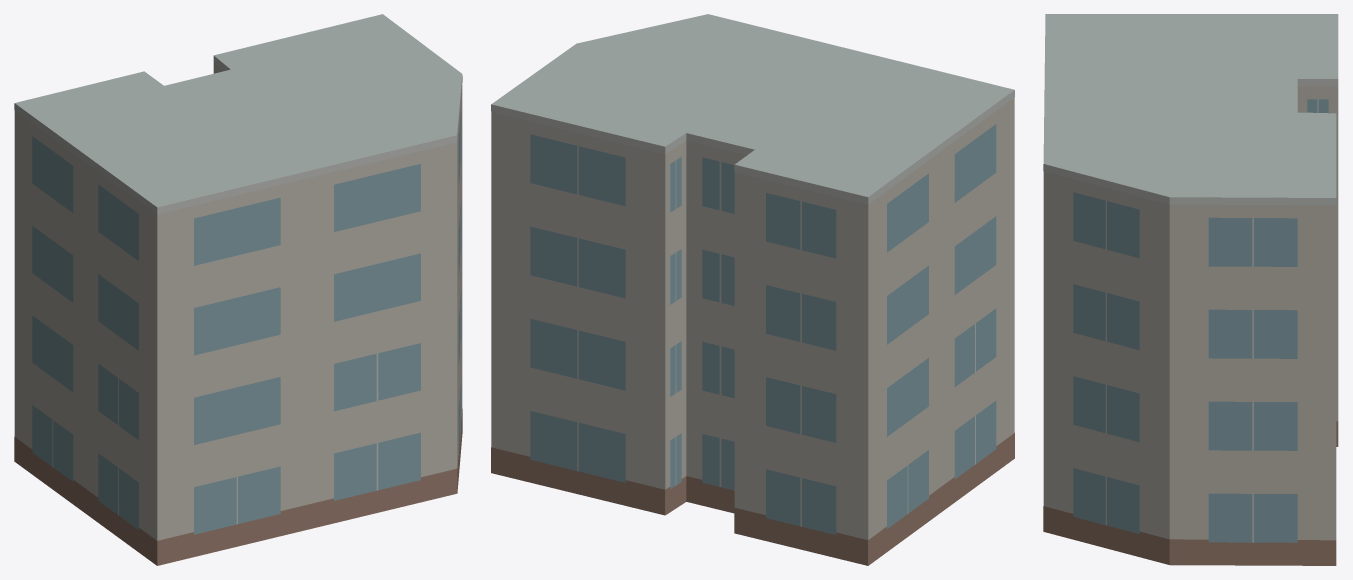
Rendered from survey-upis-32782993.glb.
The picture shows the model from 3 angles, left to right: view 1: azimuth 30°, elevation 25°; view 2: azimuth 150°, elevation 25°; view 3: azimuth 270°, elevation 25°; orthographic projection. The views are drawn at different scales.
Visible parts, largest first — view 1: survey-upis-32782993.tmp; view 2: survey-upis-32782993.tmp; view 3: survey-upis-32782993.tmp.
Part boxes in pixels (box(x1,y1,x2,y2)): survey-upis-32782993.tmp: box(14, 14, 462, 565); survey-upis-32782993.tmp: box(491, 14, 1014, 565); survey-upis-32782993.tmp: box(1043, 14, 1338, 565).
Bounding box in the file's own units: 13.1 × 12.2 × 8.87.
